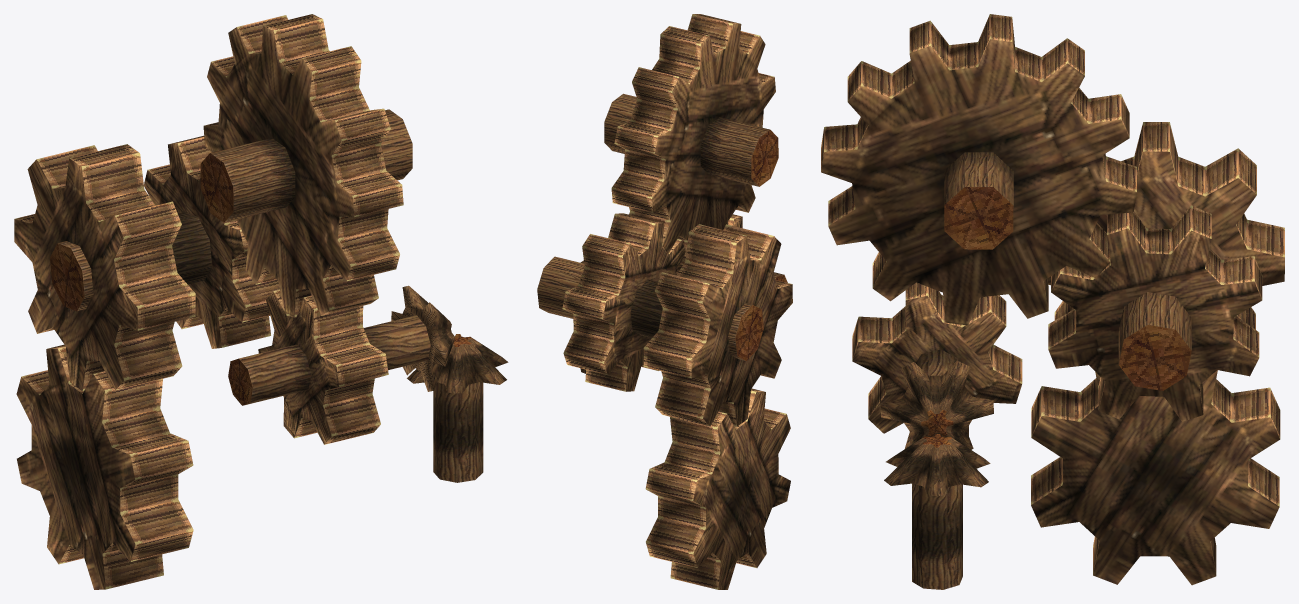
Rendered from INST_SWORDLIGHT_GEARSA.fbx.
3 views of the same model, side by side, from view 1: azimuth 30°, elevation 25°; view 2: azimuth 150°, elevation 25°; view 3: azimuth 270°, elevation 25° (orthographic). The views are drawn at different scales.
Parts seen in each view (by area): view 1: INST_SWORDLIGHT_GEARSA; view 2: INST_SWORDLIGHT_GEARSA; view 3: INST_SWORDLIGHT_GEARSA.
Part boxes in pixels (box(x1,y1,x2,y2)): INST_SWORDLIGHT_GEARSA: box(14, 14, 508, 589); INST_SWORDLIGHT_GEARSA: box(537, 14, 792, 589); INST_SWORDLIGHT_GEARSA: box(821, 14, 1284, 589).
Bounding box in the file's own units: 26966 × 44446 × 31027.
4 materials, 4 textured.
